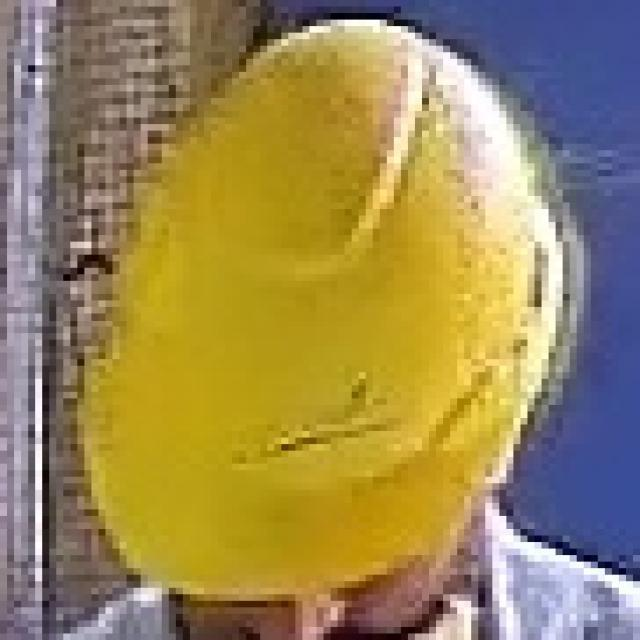yellow helmet: (81, 15, 585, 600)
